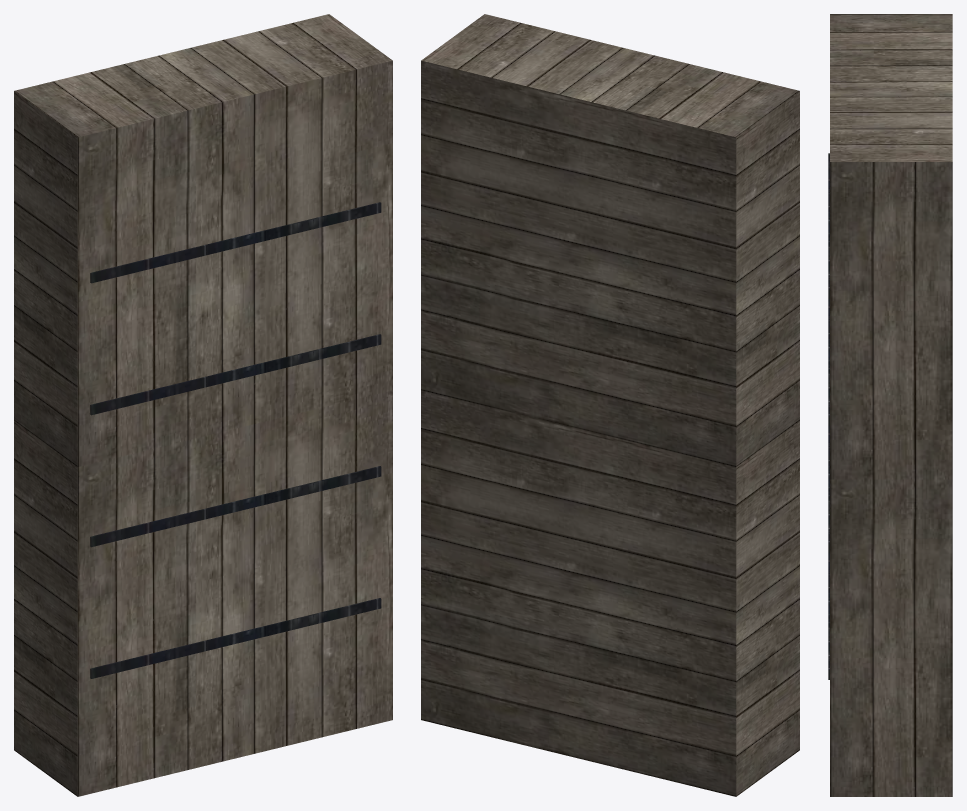
Rendered from bookshelf_01.glb.
3 renders of one model, left to right at view 1: azimuth 30°, elevation 25°; view 2: azimuth 150°, elevation 25°; view 3: azimuth 270°, elevation 25°, orthographic. The views are drawn at different scales.
Visible parts, largest first — view 1: bookshelf_01; view 2: bookshelf_01; view 3: bookshelf_01.
Part boxes in pixels (box(x1,y1,x2,y2)): bookshelf_01: box(14, 14, 392, 796); bookshelf_01: box(421, 14, 799, 796); bookshelf_01: box(828, 14, 952, 796).
Size of the model in its own units: 1 by 2 by 0.355.
7 materials, 2 textured.
